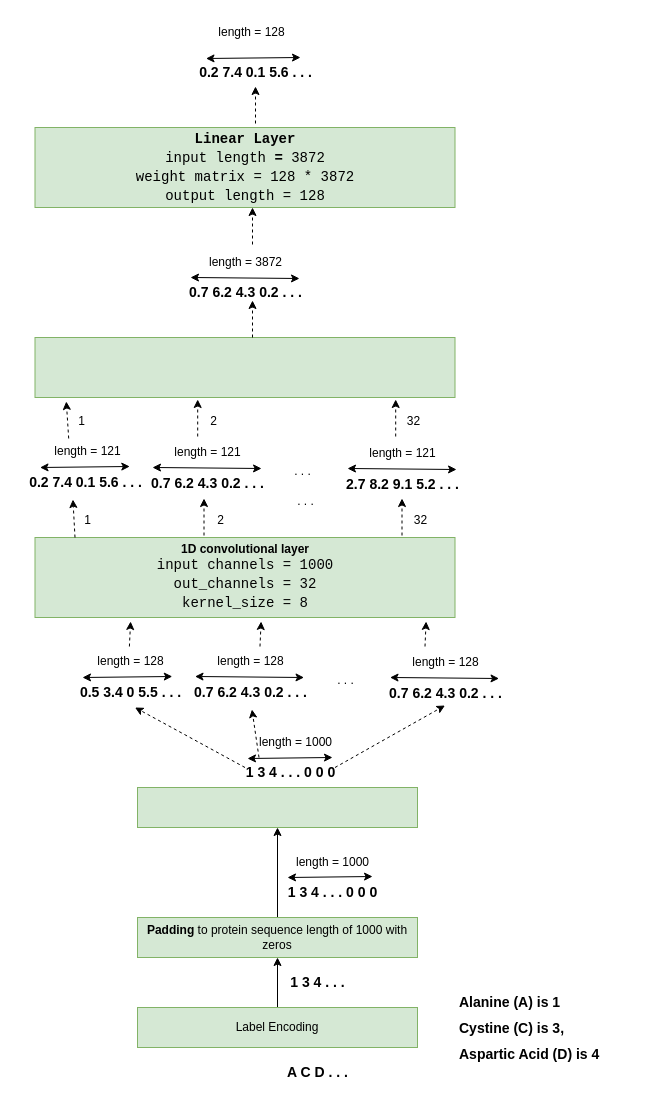
This 654x1104 diagram has some shape labels left out. The box of each missing label's shape, as (x1, y1, x2, y2) in pixels:
Embedding Layer to represent each amino acid as dense vector of length 128: (136, 786, 418, 828)
Flatten input = 32 * 121 output = 3872: (34, 336, 455, 398)
